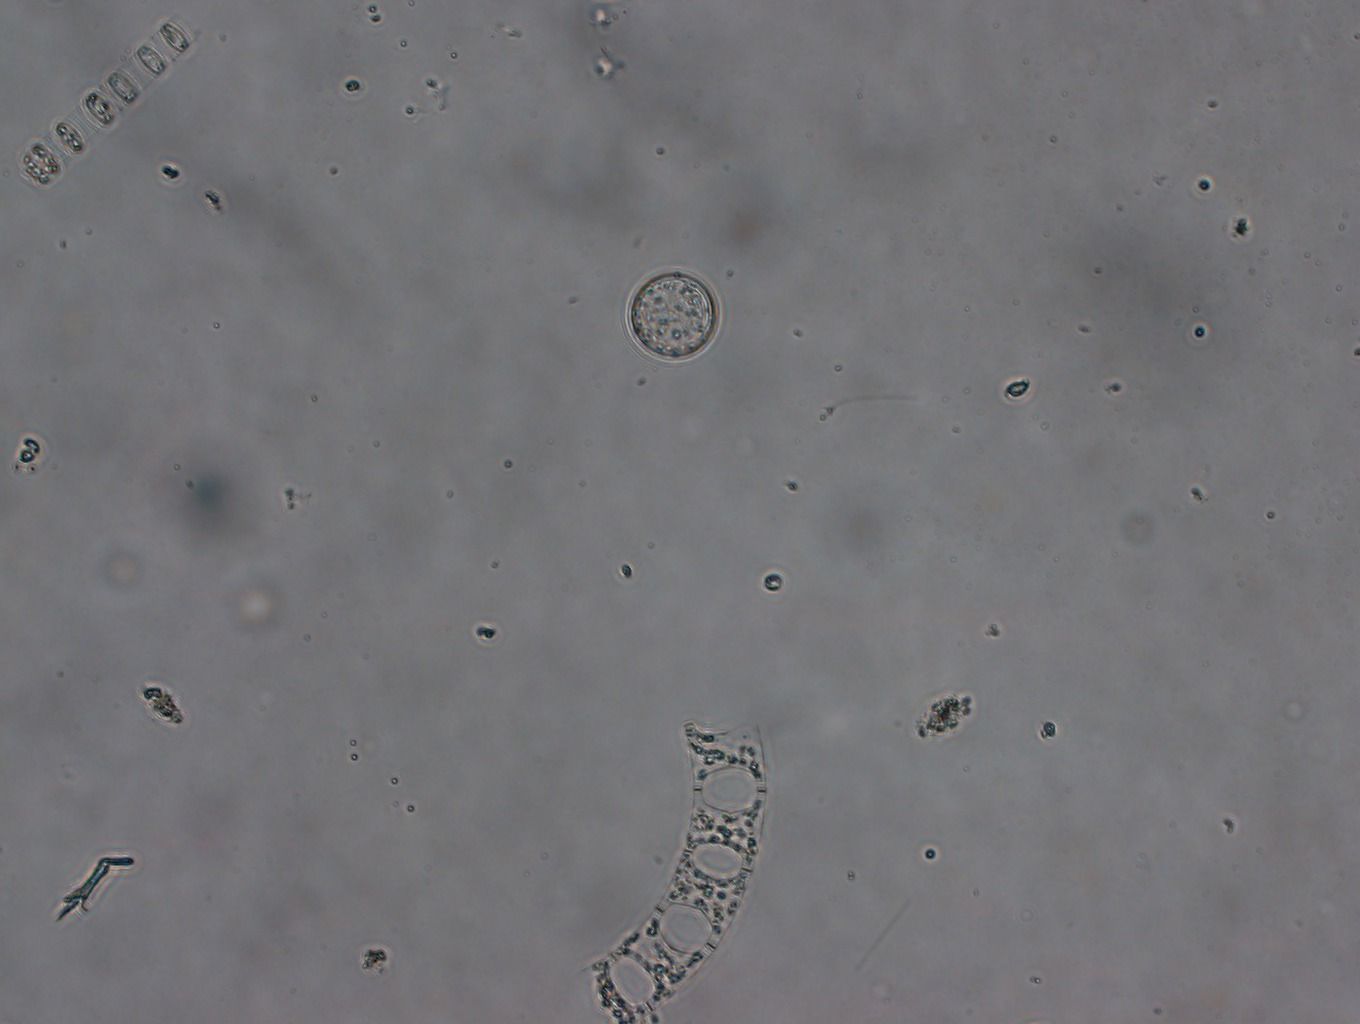eucampia: (579, 717, 767, 1024)
skeletonema: (17, 13, 198, 190)
